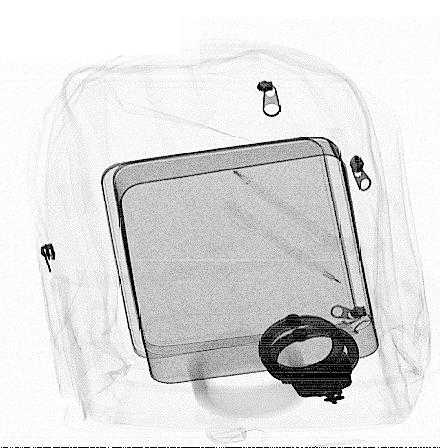HandCuffs: (257, 312, 361, 404)
